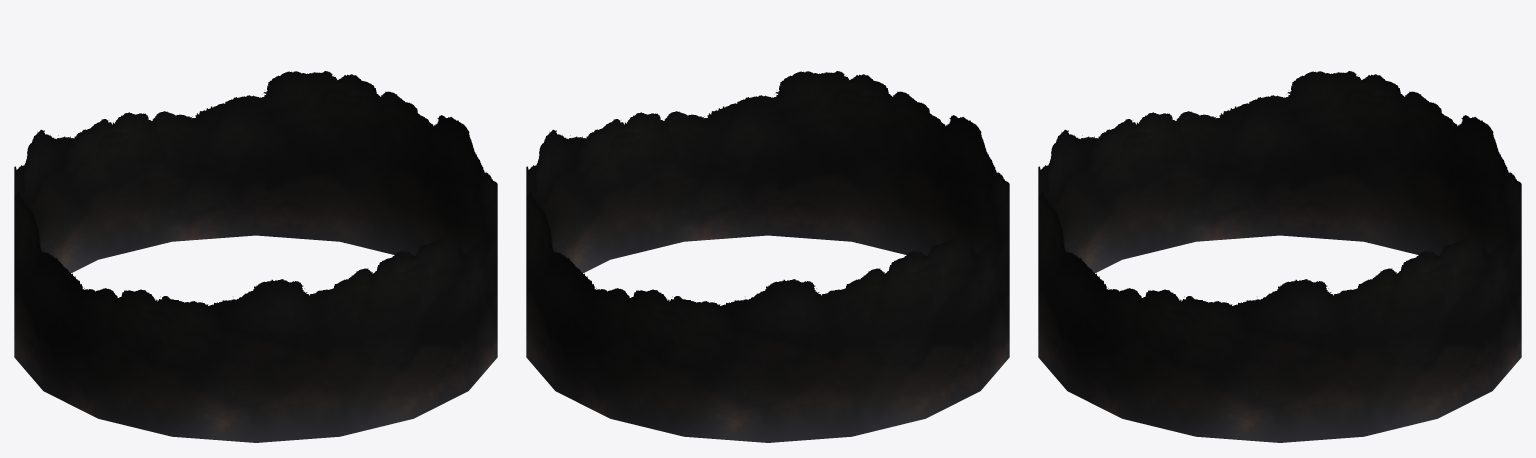
The model's file is Background.FBX.
3 views of the same model, side by side, from view 1: azimuth 30°, elevation 25°; view 2: azimuth 150°, elevation 25°; view 3: azimuth 270°, elevation 25° (orthographic).
Parts seen in each view (by area): view 1: Cylinder001; view 2: Cylinder001; view 3: Cylinder001.
Boxes of the visible parts, x1,y1,x2,y2 form: Cylinder001: [14, 71, 497, 442]; Cylinder001: [526, 71, 1009, 442]; Cylinder001: [1038, 71, 1521, 442].
Bounding box in the file's own units: 5080 × 2540 × 5003.
